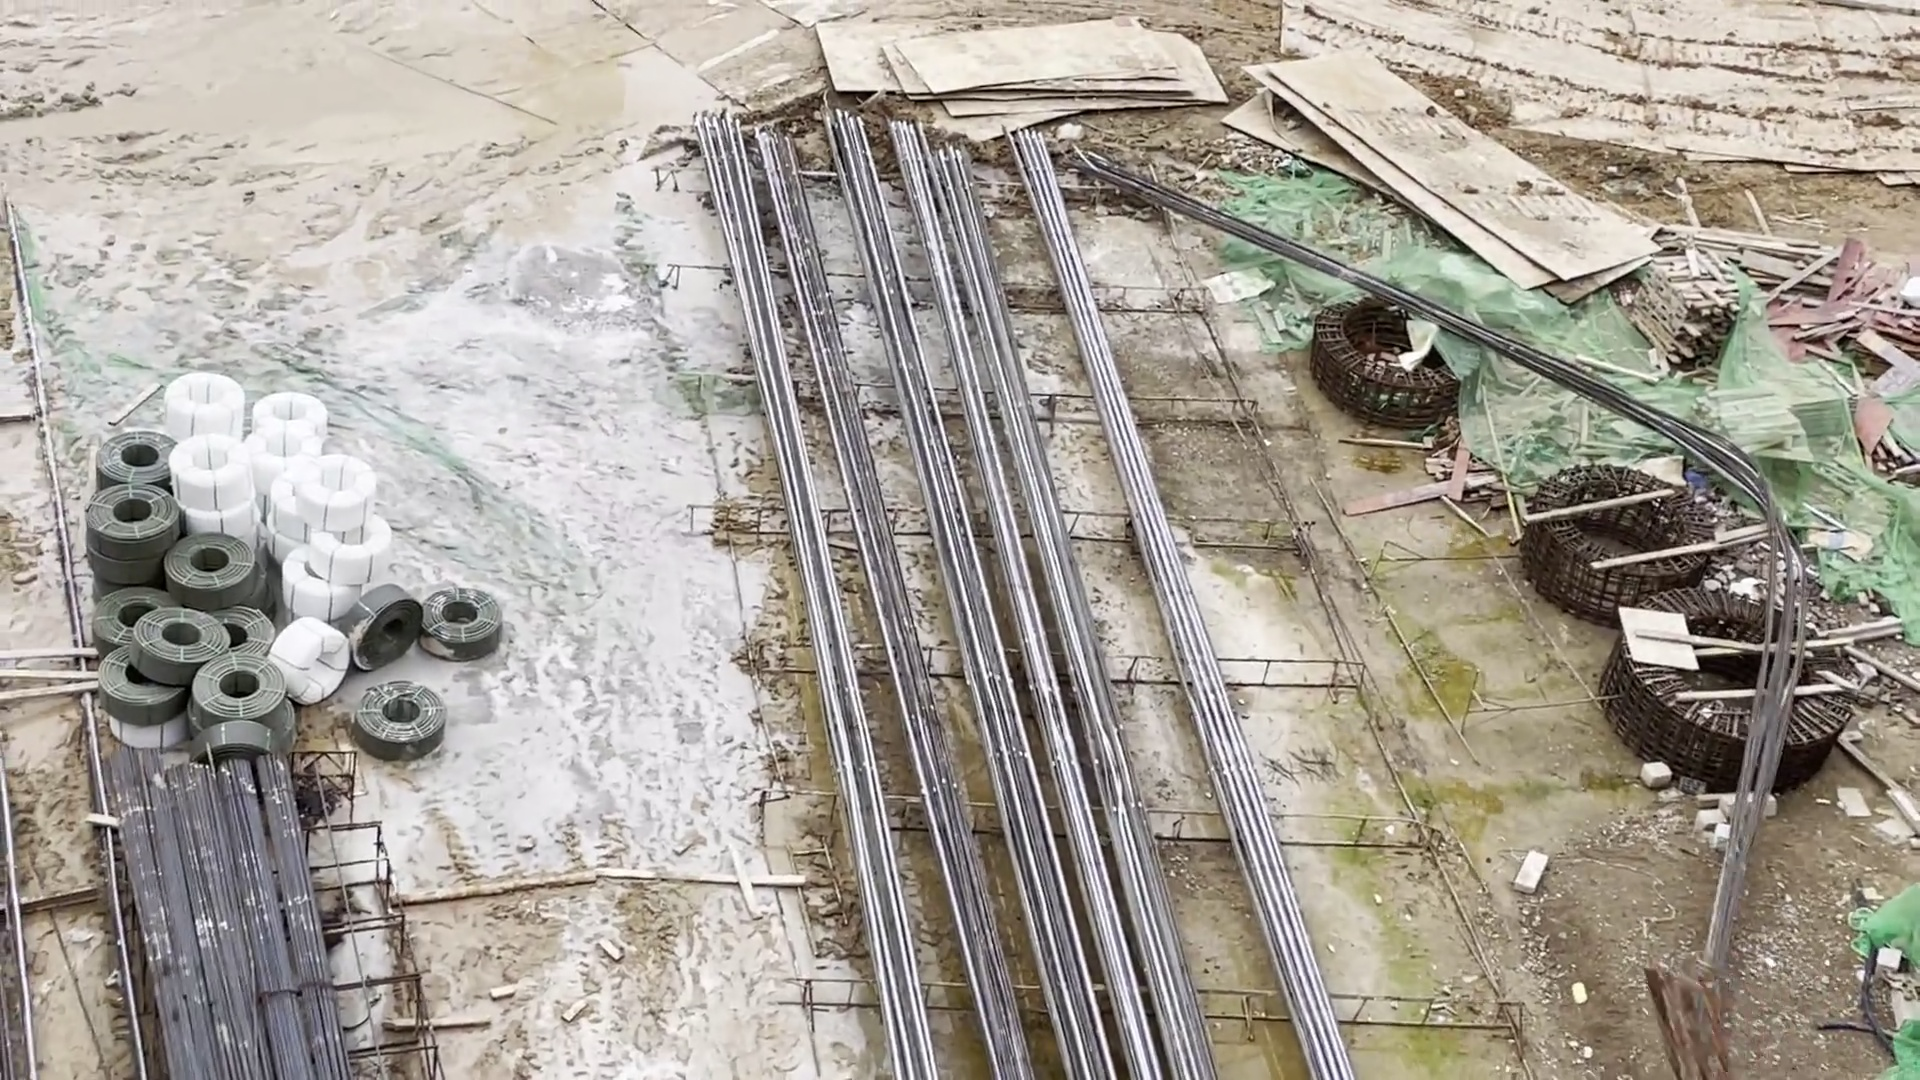board: (1785, 268, 1883, 320)
rebar: (679, 109, 1226, 1080), (113, 757, 360, 1080)
